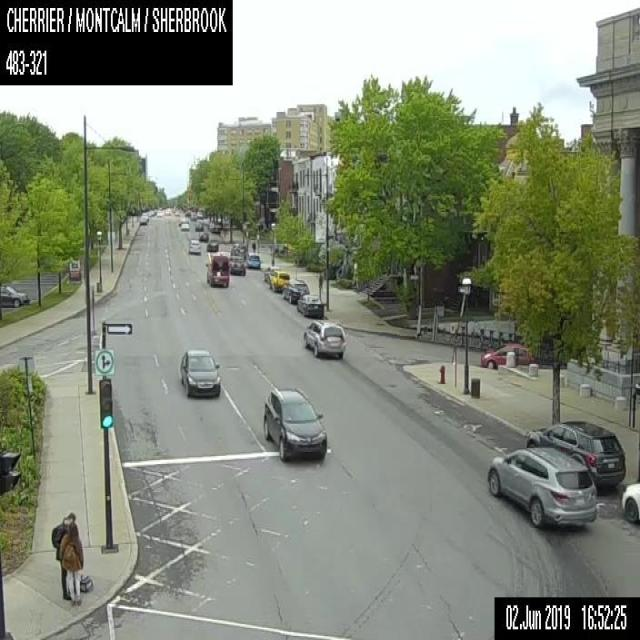pedestrian: (58, 522, 94, 607), (50, 511, 74, 599), (251, 242, 255, 254)
vehicle: (486, 446, 596, 526), (524, 420, 624, 488), (262, 387, 326, 461), (180, 348, 220, 398), (303, 320, 345, 358), (479, 342, 529, 368), (206, 254, 228, 288), (623, 480, 639, 524), (296, 292, 323, 318), (281, 278, 309, 303), (0, 285, 28, 307), (268, 270, 289, 291), (228, 255, 245, 275), (263, 266, 280, 283), (230, 242, 246, 259), (246, 252, 260, 268), (187, 238, 200, 254), (208, 219, 220, 232), (205, 240, 218, 251), (198, 230, 208, 241), (180, 216, 188, 229), (194, 220, 203, 230), (140, 211, 148, 220), (138, 215, 146, 224), (190, 210, 196, 220), (156, 210, 162, 217), (196, 210, 202, 217), (185, 210, 190, 216)
